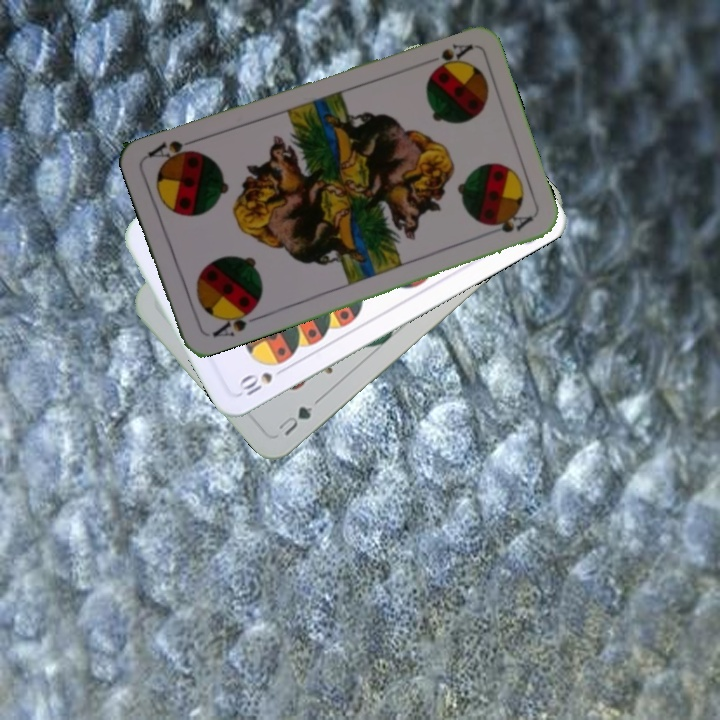GU: (274, 395, 322, 439)
S10: (234, 363, 290, 402)
SA: (418, 39, 476, 74), (208, 303, 261, 340)
